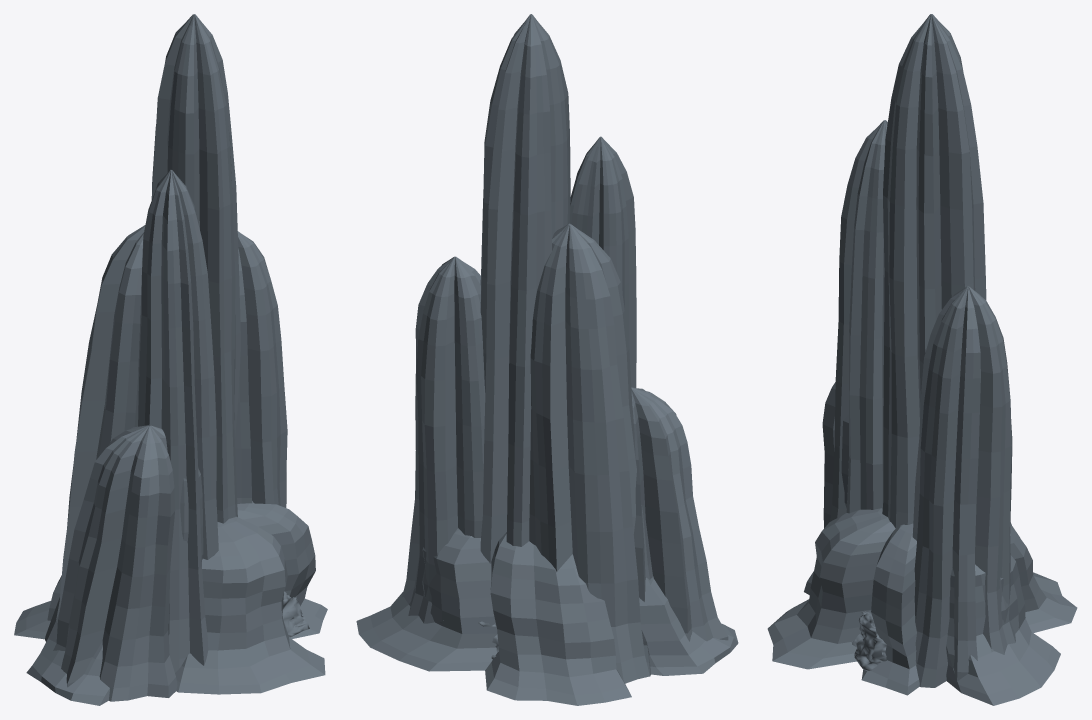
Rendered from peak-distant-c.glb.
3 renders of one model, left to right at view 1: azimuth 30°, elevation 25°; view 2: azimuth 150°, elevation 25°; view 3: azimuth 270°, elevation 25°, orthographic.
Parts seen in each view (by area): view 1: peak-distant-c_Stone; view 2: peak-distant-c_Stone; view 3: peak-distant-c_Stone.
Part boxes in pixels (<box>): peak-distant-c_Stone: <box>14,14,327,705</box>; peak-distant-c_Stone: <box>356,14,738,705</box>; peak-distant-c_Stone: <box>767,14,1077,705</box>.
Size of the model in its own units: 14.88 by 28 by 12.67.
